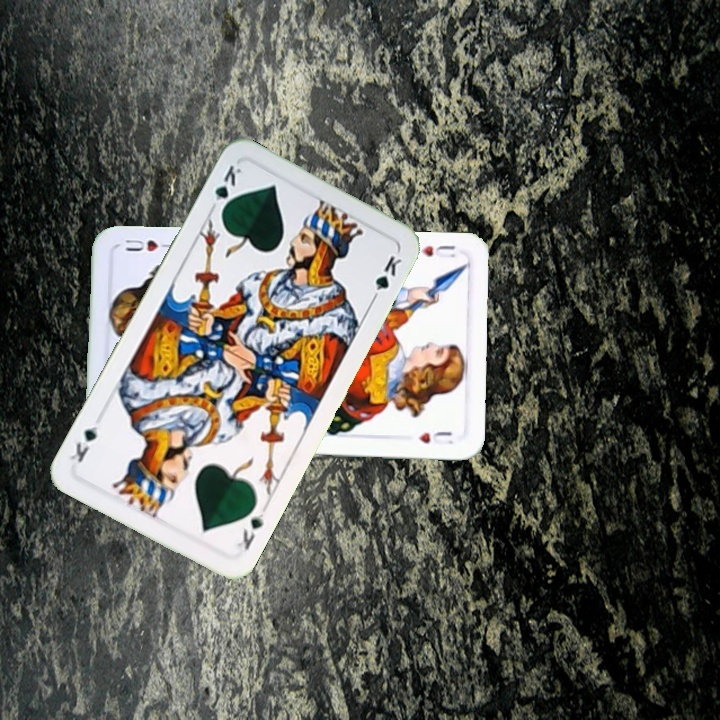GK: (206, 160, 244, 218), (233, 508, 267, 553)
HU: (417, 241, 458, 261)
